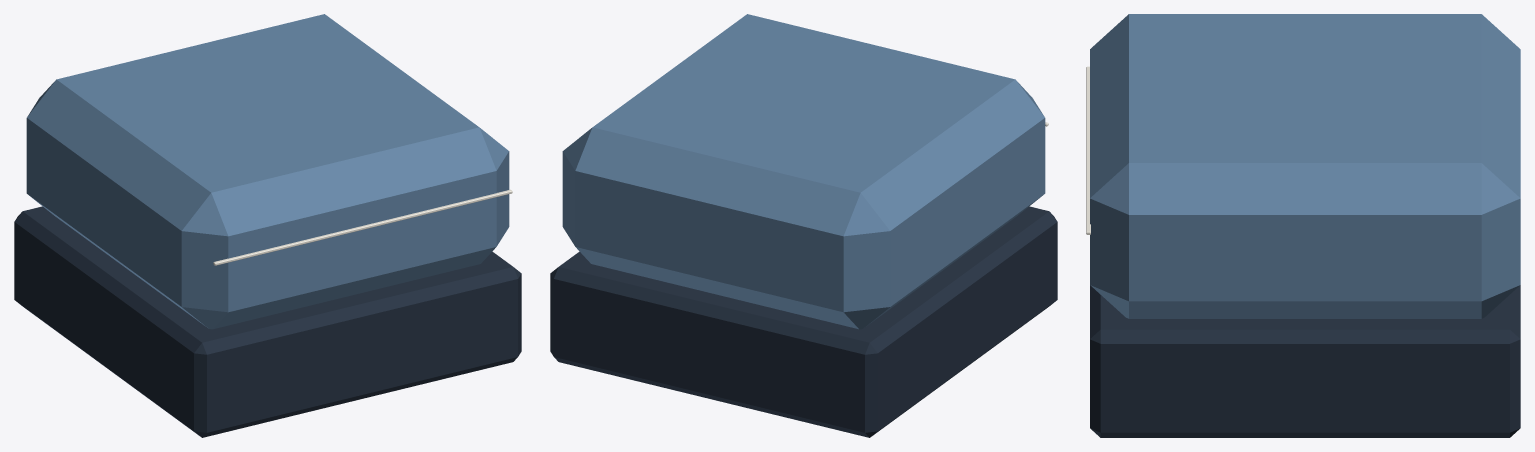
File: living_04.glb
3 views of the same model, side by side, from view 1: azimuth 30°, elevation 25°; view 2: azimuth 150°, elevation 25°; view 3: azimuth 270°, elevation 25° (orthographic). The views are drawn at different scales.
Visible parts, largest first — view 1: OttomanCushion, OttomanBase, Seam; view 2: OttomanCushion, OttomanBase; view 3: OttomanCushion, OttomanBase, Seam.
Boxes of the visible parts, x1=… form: OttomanCushion: x1=26, y1=14, x2=509, y2=329; OttomanBase: x1=14, y1=206, x2=521, y2=437; Seam: x1=213, y1=189, x2=512, y2=265; OttomanCushion: x1=562, y1=14, x2=1045, y2=329; OttomanBase: x1=550, y1=206, x2=1057, y2=437; OttomanCushion: x1=1090, y1=14, x2=1520, y2=318; OttomanBase: x1=1090, y1=285, x2=1520, y2=437; Seam: x1=1086, y1=66, x2=1090, y2=234.
Size of the model in its own units: 0.72 by 0.485 by 0.726.
